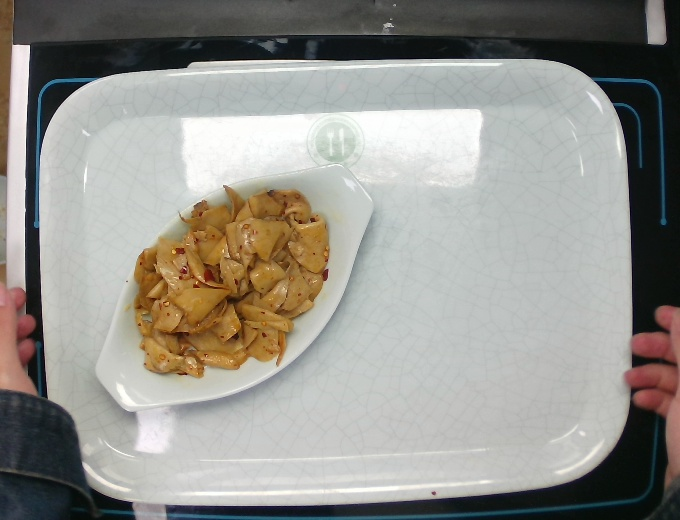JYsf-Yu_Pan: (91, 153, 378, 421)
